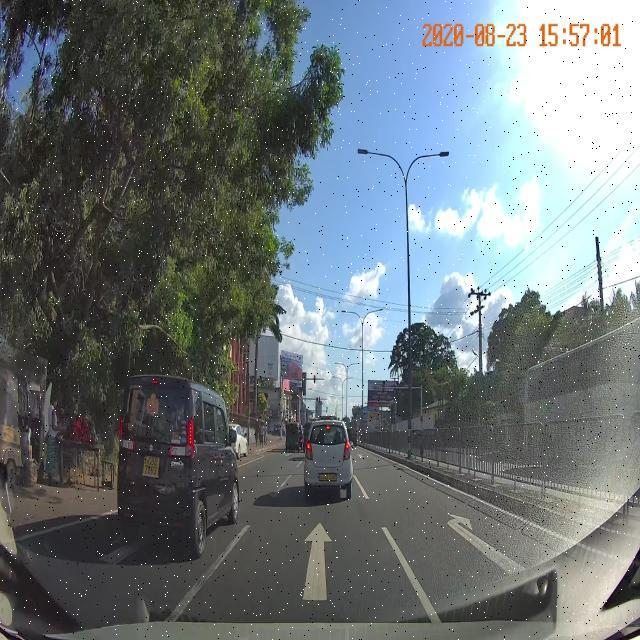forward: (165, 508, 437, 611)
